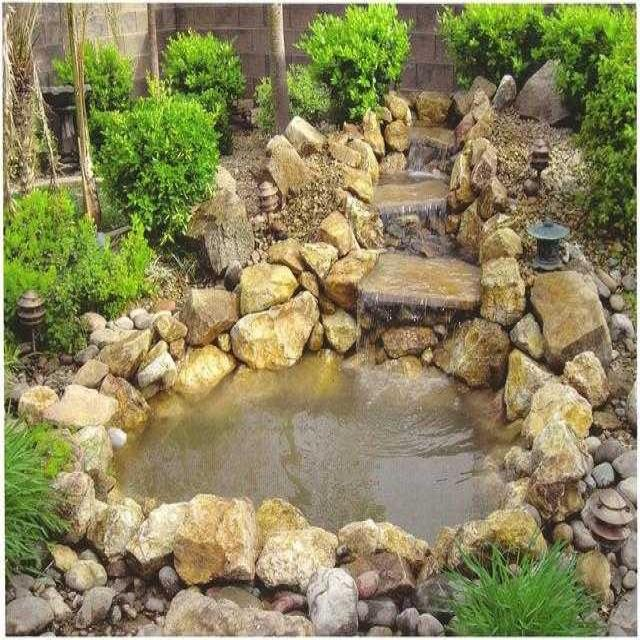Ponds: (56, 99, 594, 617)
